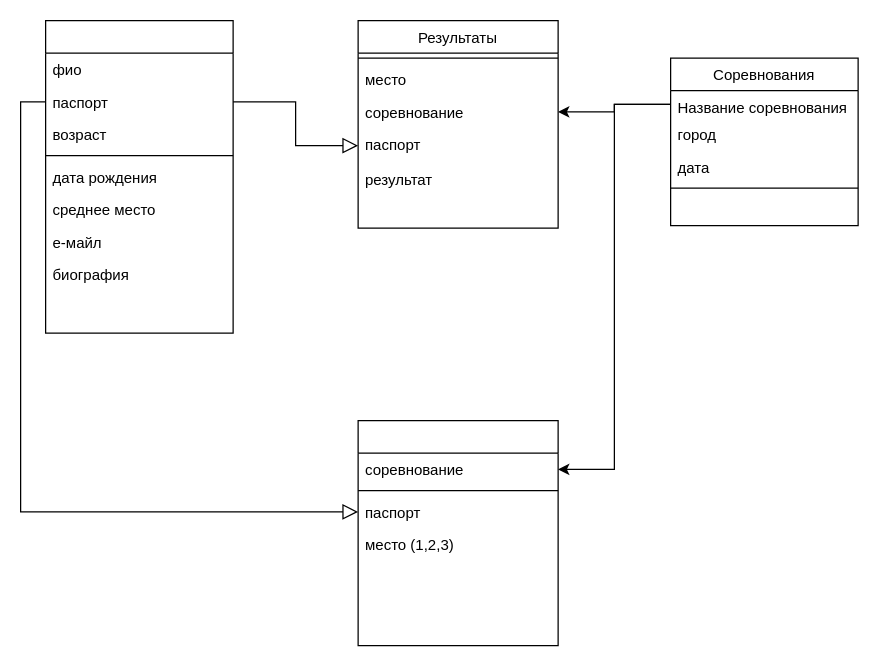
This 879x666 diagram has some shape labels left out. The box of each missing label's shape, as (x1, y1, x2, y2) in pixels:
Призеры: (357, 419, 558, 646)
Спортсмены: (44, 19, 233, 333)
